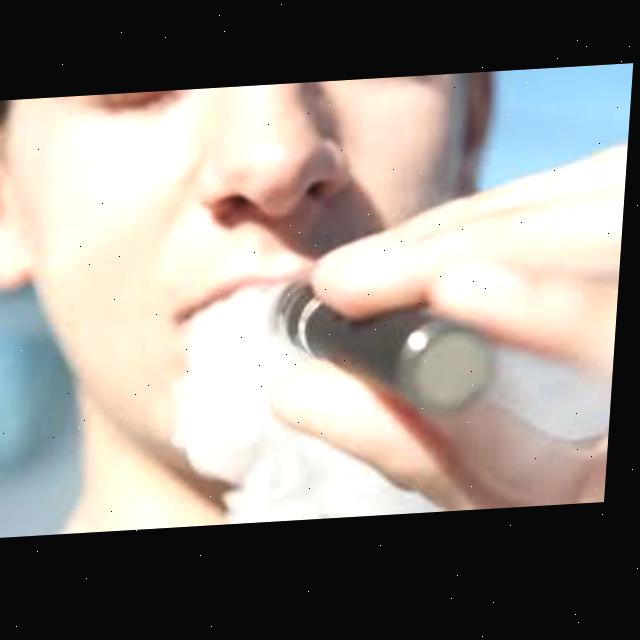vape: (266, 266, 517, 434)
